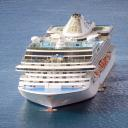cruises: (17, 13, 119, 110)
